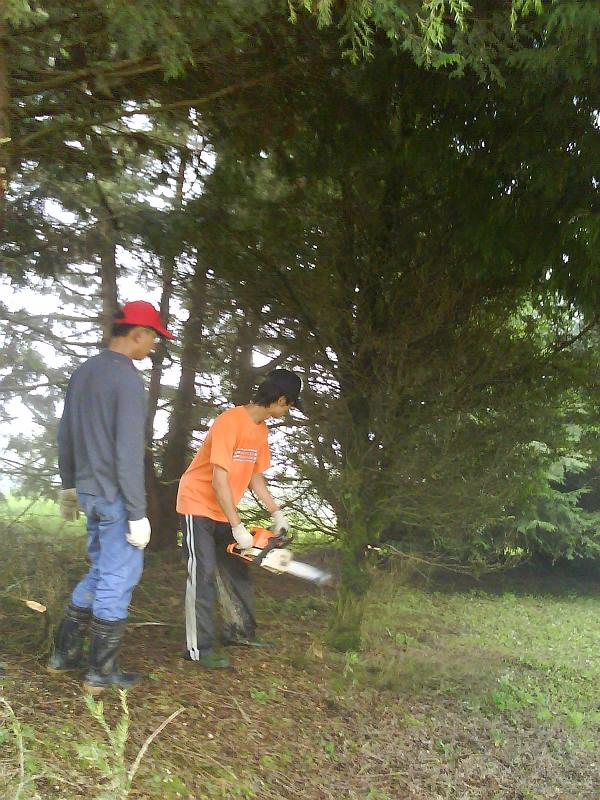person: (175, 369, 301, 671)
